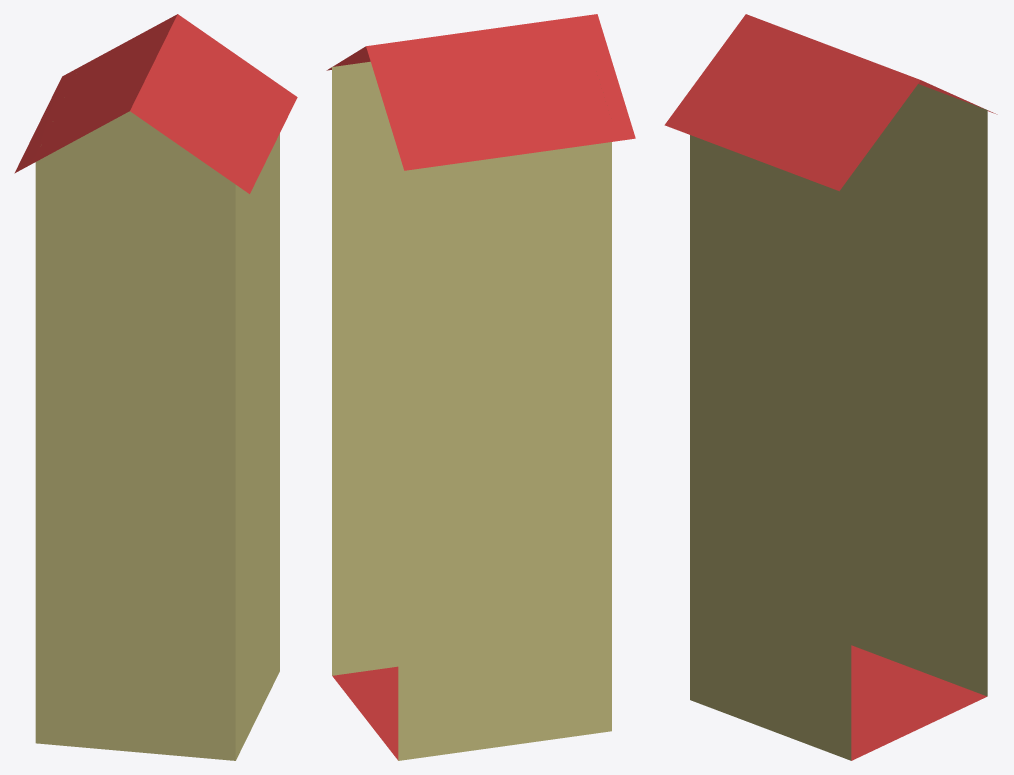
The picture shows the model from 3 angles, left to right: view 1: azimuth 30°, elevation 25°; view 2: azimuth 150°, elevation 25°; view 3: azimuth 270°, elevation 25°; orthographic projection. The views are drawn at different scales.
Bounding box in the file's own units: 4.64 × 4.63 × 9.88.
